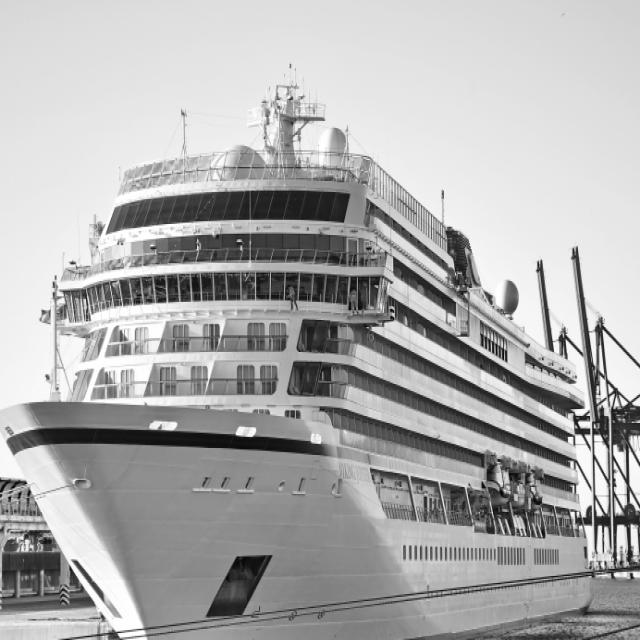cruises: (1, 65, 599, 640)
